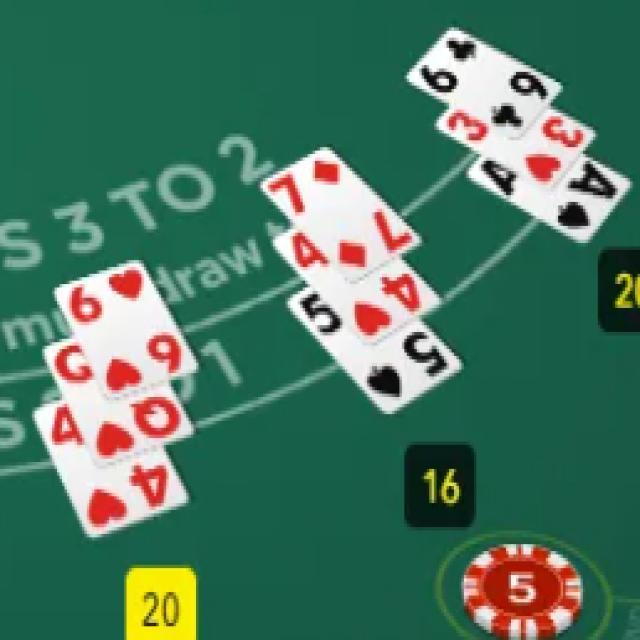Card-3: (435, 105, 597, 193)
Card-4: (34, 395, 191, 537), (272, 227, 442, 345)
Card-5: (286, 285, 464, 415)
Card-6: (52, 254, 198, 400), (405, 46, 562, 141)
Card-7: (261, 139, 421, 284)
Card-A: (467, 152, 633, 246)
Card-Q: (42, 333, 194, 468)
